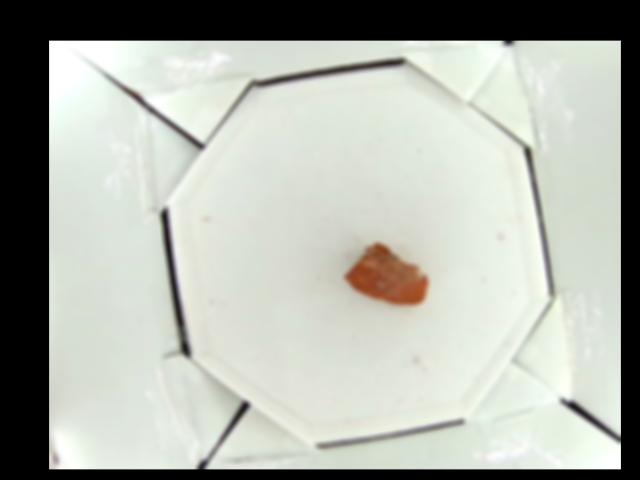Brisk: (342, 244, 427, 307)
